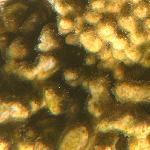dead: (3, 2, 150, 147)
